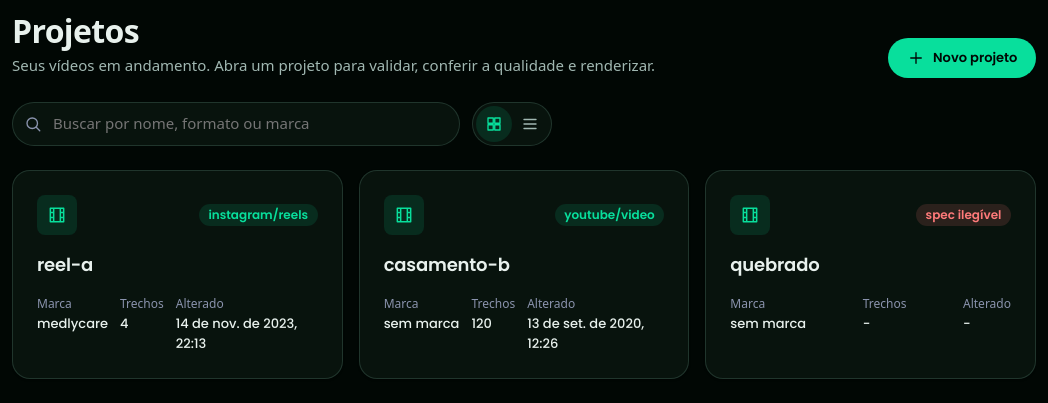
ProjectsView › troca para tabela e lembra da escolha
Click the button named "Tabela" at {"x": 530, "y": 124}, box [512,106,548,142]
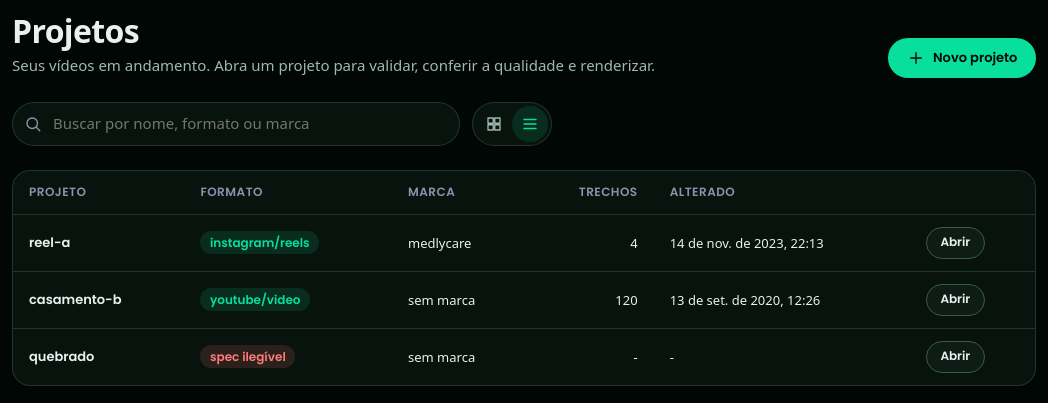
Expected: the table is shown, [13,171,1035,385]
